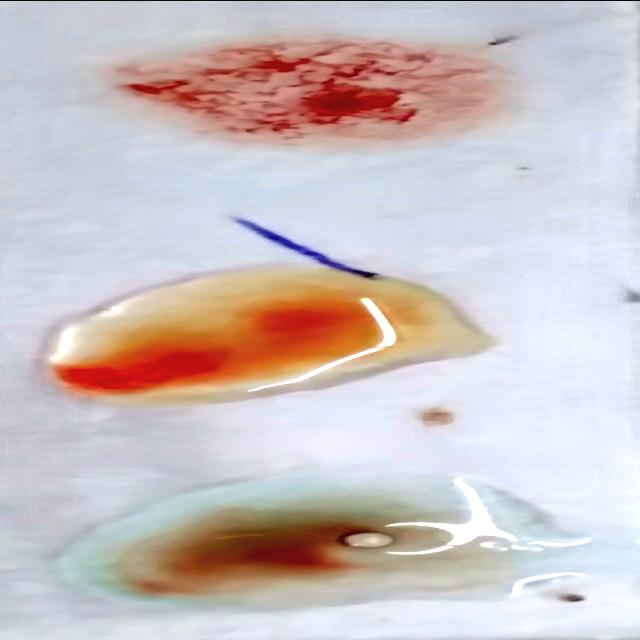D: (96, 36, 505, 139)
